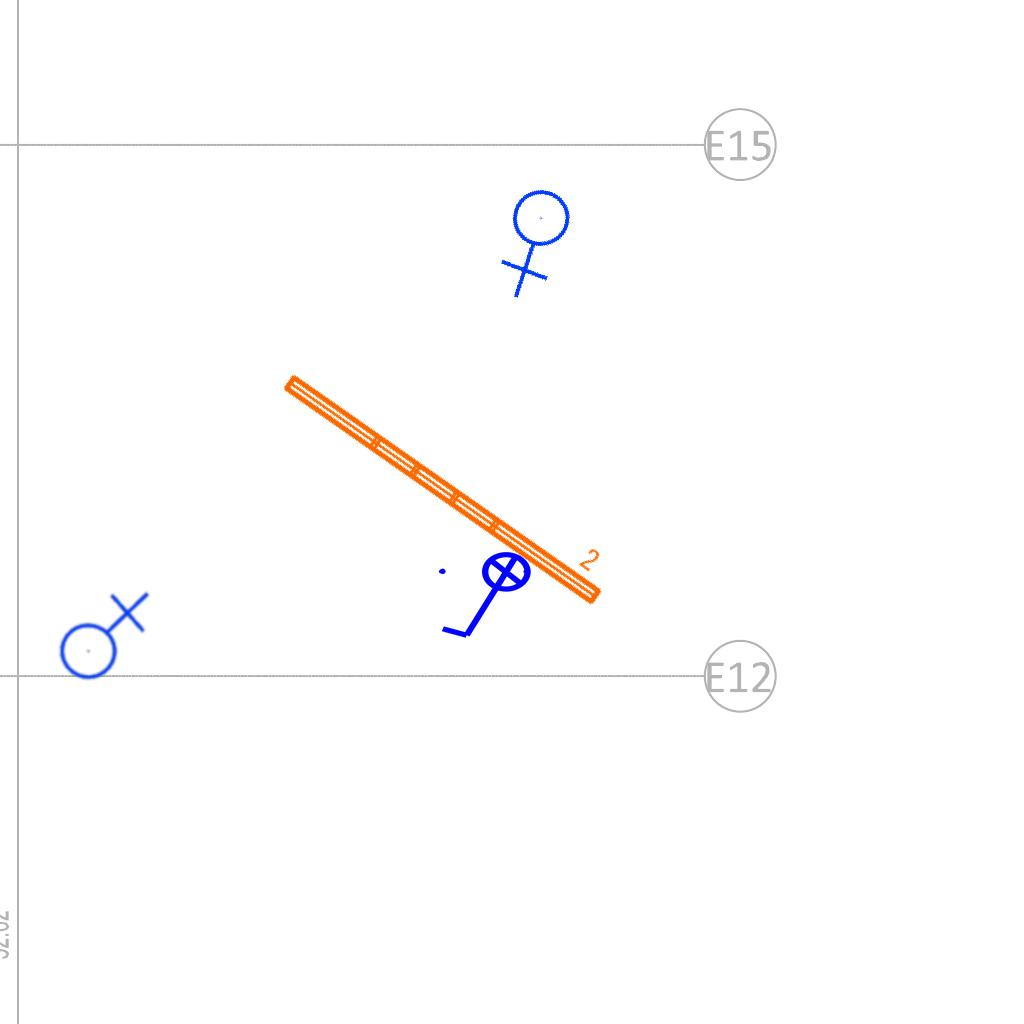Ambulanz_Pendelleuchte_LED: (274, 345, 625, 613)
Ausschalter_beleuchtet: (433, 550, 545, 646)
Elektroanschluss_allgemein_230V_Geraeteanschlussdose_230V: (472, 174, 605, 304), (51, 587, 150, 681)
